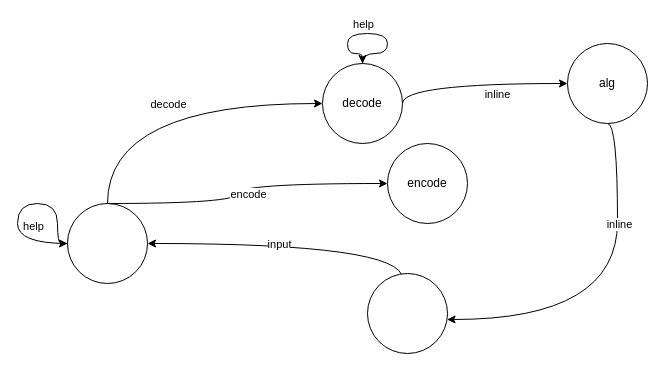
Image size: 665x371. Some labels were removed from this diagram. Each missing label, with the box of its shape:
data: (366, 272, 448, 354)
idle: (66, 202, 148, 284)
